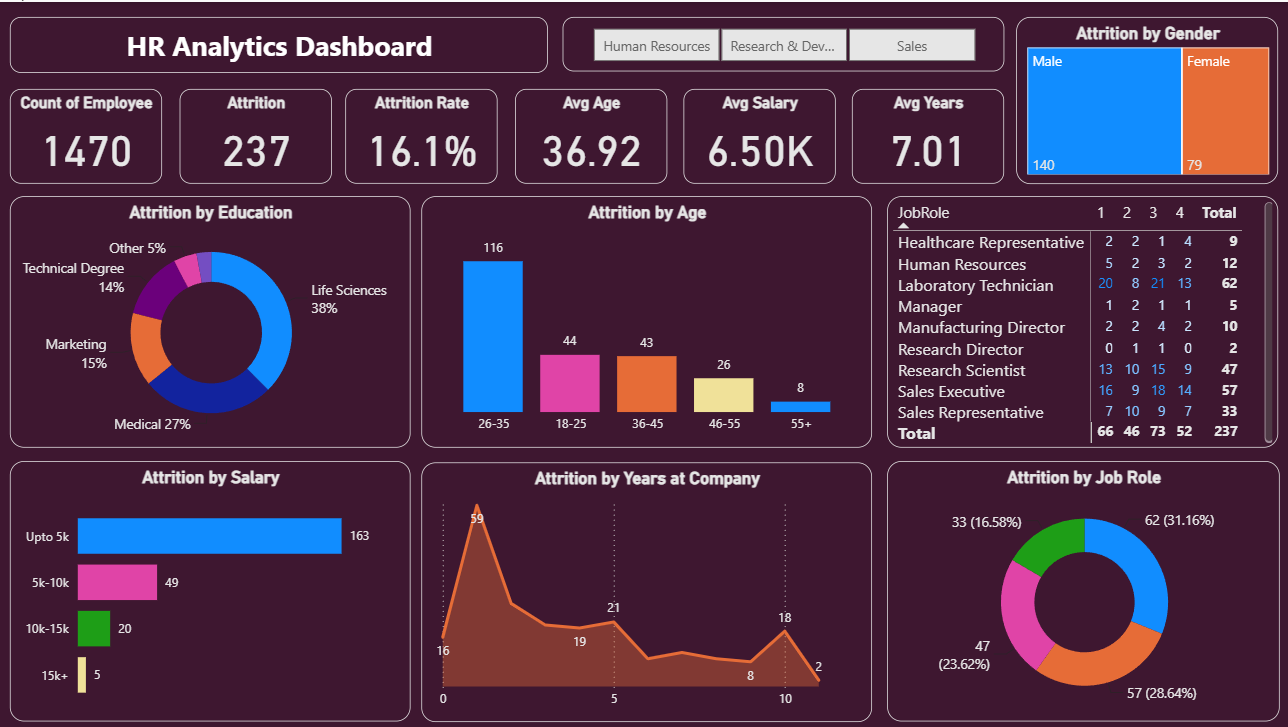

Layout of this report page (visuals, bound fields, positions):
{"tool":"powerbi","page":{"name":"Page 1","canvas":[1280,720],"ordinal":0},"visuals":[{"type":"card","title":"Count of Employee","fields":{"Values":["CountNonNull(HR_Analytics.EmpID)"]},"box":[10.7,85.8,150.1,93.8],"z":0},{"type":"card","title":"Attrition","fields":{"Values":["Sum(HR_Analytics.AttritionCount)"]},"box":[178.3,85.8,150.1,93.8],"z":1000},{"type":"card","title":"Attrition Rate","fields":{"Values":["HR_Analytics.AttritionRate"]},"box":[341.8,85.8,150.1,93.8],"z":2000},{"type":"card","title":"Avg Age","fields":{"Values":["Avg(HR_Analytics.Age)"]},"box":[509.3,85.8,150.1,93.8],"z":3000},{"type":"card","title":"Avg Salary","fields":{"Values":["Avg(HR_Analytics.MonthlyIncome)"]},"box":[675.5,85.8,150.1,93.8],"z":5000},{"type":"card","title":"Avg Years","fields":{"Values":["Avg(HR_Analytics.YearsAtCompany)"]},"box":[841.7,85.8,150.1,93.8],"z":6000},{"type":"donutChart","title":"Attrition by Education","fields":{"Y":["Sum(HR_Analytics.AttritionCount)"],"Category":["HR_Analytics.EducationField","HR_Analytics.YearsAtCompany"]},"box":[10.7,191.7,395.4,248],"z":7000},{"type":"columnChart","title":"Attrition by Age","fields":{"Category":["HR_Analytics.AgeGroup"],"Y":["Sum(HR_Analytics.AttritionCount)"]},"box":[416.8,191.7,445,248],"z":8000},{"type":"pivotTable","fields":{"Rows":["HR_Analytics.JobRole"],"Columns":["HR_Analytics.JobSatisfaction"],"Values":["Sum(HR_Analytics.AttritionCount)"]},"box":[876.5,191.7,386,248],"z":9000},{"type":"barChart","title":"Attrition by Salary","fields":{"Category":["HR_Analytics.SalarySlab"],"Y":["Sum(HR_Analytics.AttritionCount)"]},"box":[10.7,453,395.4,257.3],"z":10000},{"type":"donutChart","title":"Attrition by Job Role","fields":{"Category":["HR_Analytics.JobRole"],"Y":["Sum(HR_Analytics.AttritionCount)"]},"box":[876.5,453,387.3,257.3],"z":11000},{"type":"areaChart","title":"Attrition by Years at Company","fields":{"Category":["HR_Analytics.YearsAtCompany"],"Y":["Sum(HR_Analytics.AttritionCount)"]},"box":[416.8,454.4,445,256],"z":12000},{"type":"treemap","title":"Attrition by Gender","fields":{"Group":["HR_Analytics.Gender"],"Values":["Sum(HR_Analytics.AttritionCount)"]},"box":[1003.9,14.7,258.7,164.9],"z":13000},{"type":"slicer","fields":{"Values":["HR_Analytics.Department"]},"box":[556.2,14.7,435.6,53.6],"z":14000},{"type":"textbox","box":[10.7,14.7,530.7,55],"z":15000}]}

Visuals, with their boxes in screenshot pixels (x1, y1, x2, y2), scaled from the page's 1280x720 canvas onto the 1288x727 screenshot:
"Count of Employee" card: x1=11 y1=87 x2=162 y2=181
"Attrition" card: x1=179 y1=87 x2=330 y2=181
"Attrition Rate" card: x1=344 y1=87 x2=495 y2=181
"Avg Age" card: x1=512 y1=87 x2=664 y2=181
"Avg Salary" card: x1=680 y1=87 x2=831 y2=181
"Avg Years" card: x1=847 y1=87 x2=998 y2=181
"Attrition by Education" donutChart: x1=11 y1=194 x2=409 y2=444
"Attrition by Age" columnChart: x1=419 y1=194 x2=867 y2=444
pivotTable - HR_Analytics.JobRole x HR_Analytics.JobSatisfaction: x1=882 y1=194 x2=1270 y2=444
"Attrition by Salary" barChart: x1=11 y1=457 x2=409 y2=717
"Attrition by Job Role" donutChart: x1=882 y1=457 x2=1272 y2=717
"Attrition by Years at Company" areaChart: x1=419 y1=459 x2=867 y2=717
"Attrition by Gender" treemap: x1=1010 y1=15 x2=1270 y2=181
slicer - HR_Analytics.Department: x1=560 y1=15 x2=998 y2=69
textbox: x1=11 y1=15 x2=545 y2=70
